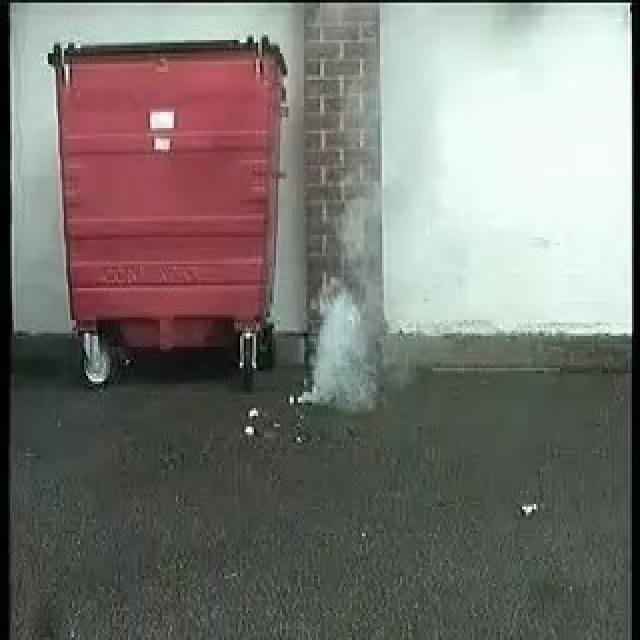smoke: (289, 200, 397, 406)
